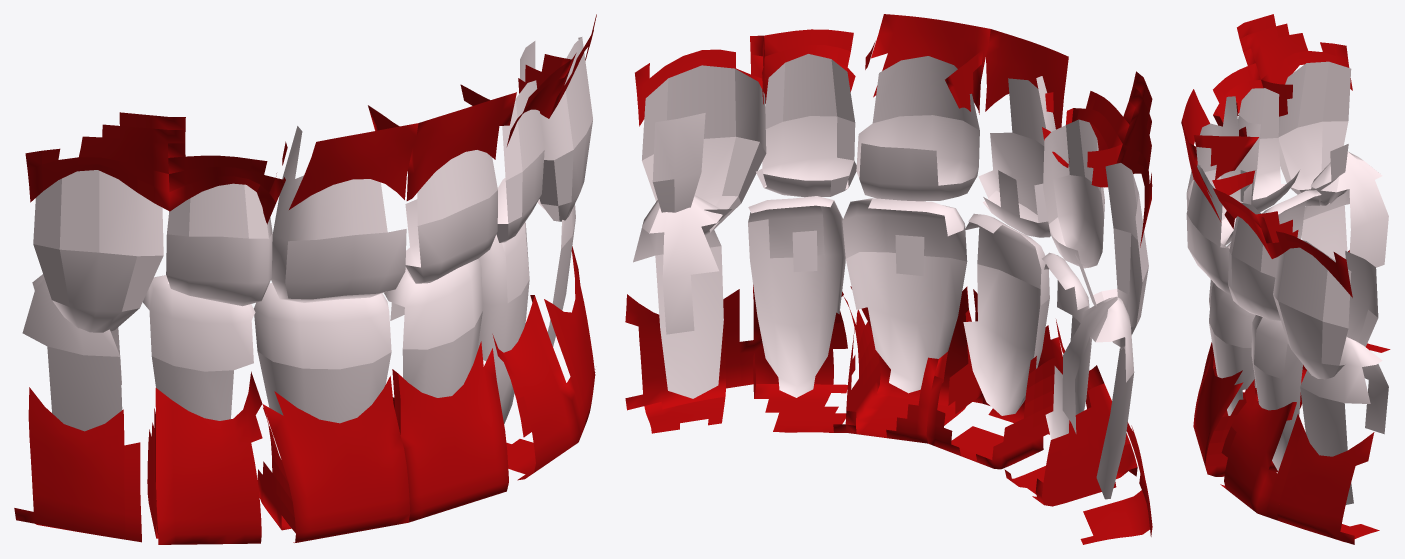
Rendered from dents.fbx.
The picture shows the model from 3 angles, left to right: view 1: azimuth 30°, elevation 25°; view 2: azimuth 150°, elevation 25°; view 3: azimuth 270°, elevation 25°; orthographic projection. The views are drawn at different scales.
Visible parts, largest first — view 1: LowerJaw.002, LowerJaw.004, UpperJaw.011, LowerJaw.003, LowerJaw.005, UpperJaw.001, UpperJaw.012, UpperJaw.003, LowerJaw.006, UpperJaw.002, UpperJaw.008, LowerJaw.007; view 2: LowerJaw.003, LowerJaw.006, UpperJaw.003, LowerJaw.002, LowerJaw.007, UpperJaw.002, UpperJaw.008, UpperJaw.001, LowerJaw.004, UpperJaw.012, LowerJaw.005, UpperJaw.011; view 3: LowerJaw.007, UpperJaw.011, UpperJaw.002, LowerJaw.006, LowerJaw.003, LowerJaw.005, UpperJaw.003, UpperJaw.012, UpperJaw.008, UpperJaw.001, LowerJaw.004, LowerJaw.002.
Part boxes in pixels (bbox=[...]): LowerJaw.002: bbox=[254, 283, 410, 542]; LowerJaw.004: bbox=[143, 275, 262, 544]; UpperJaw.011: bbox=[25, 112, 185, 332]; LowerJaw.003: bbox=[384, 259, 508, 522]; LowerJaw.005: bbox=[14, 274, 141, 542]; UpperJaw.001: bbox=[271, 123, 418, 302]; UpperJaw.012: bbox=[153, 155, 285, 306]; UpperJaw.003: bbox=[368, 84, 516, 283]; LowerJaw.006: bbox=[477, 222, 582, 480]; UpperJaw.002: bbox=[520, 14, 596, 221]; UpperJaw.008: bbox=[494, 60, 571, 242]; LowerJaw.007: bbox=[544, 204, 595, 434]; LowerJaw.003: bbox=[842, 198, 983, 443]; LowerJaw.006: bbox=[739, 196, 856, 432]; UpperJaw.003: bbox=[856, 14, 990, 201]; LowerJaw.002: bbox=[926, 213, 1062, 469]; LowerJaw.007: bbox=[625, 195, 740, 433]; UpperJaw.002: bbox=[635, 35, 766, 235]; UpperJaw.008: bbox=[762, 29, 856, 197]; UpperJaw.001: bbox=[978, 29, 1068, 237]; LowerJaw.004: bbox=[1004, 252, 1137, 506]; UpperJaw.012: bbox=[1034, 91, 1129, 268]; LowerJaw.005: bbox=[1062, 296, 1152, 544]; UpperJaw.011: bbox=[1075, 71, 1152, 349]; LowerJaw.007: bbox=[1267, 336, 1388, 544]; UpperJaw.011: bbox=[1237, 14, 1352, 205]; UpperJaw.002: bbox=[1256, 211, 1378, 379]; LowerJaw.006: bbox=[1220, 315, 1302, 516]; LowerJaw.003: bbox=[1193, 282, 1277, 476]; LowerJaw.005: bbox=[1301, 151, 1390, 352]; UpperJaw.003: bbox=[1183, 129, 1258, 294]; UpperJaw.012: bbox=[1213, 63, 1299, 212]; UpperJaw.008: bbox=[1213, 188, 1298, 320]; UpperJaw.001: bbox=[1181, 89, 1252, 245]; LowerJaw.004: bbox=[1262, 190, 1321, 383]; LowerJaw.002: bbox=[1199, 242, 1302, 415].
Size of the model in its own units: 85.47 by 61.86 by 34.69.
